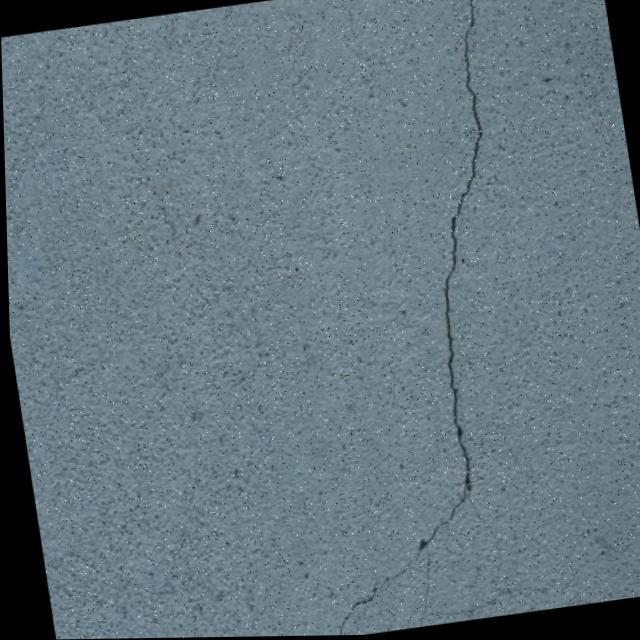Crack: (232, 0, 578, 637)
